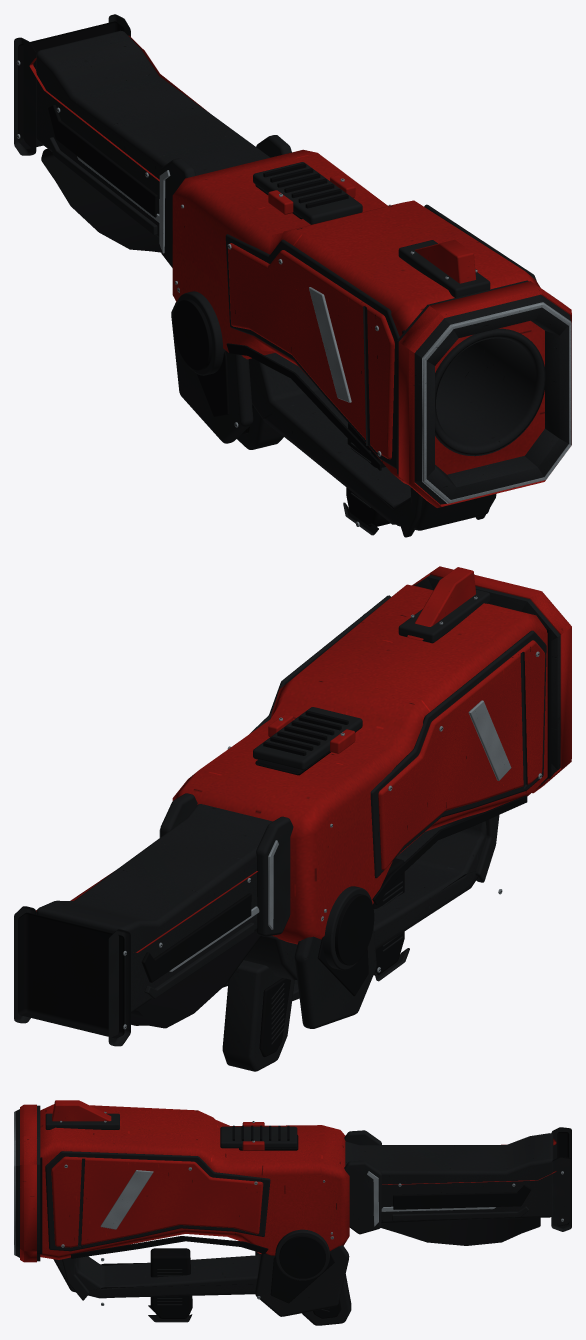
The model's file is pulse-launcher-lod0.glb.
3 renders of one model, top to bottom at view 1: azimuth 30°, elevation 25°; view 2: azimuth 150°, elevation 25°; view 3: azimuth 270°, elevation 25°, orthographic. The views are drawn at different scales.
Parts seen in each view (by area): view 1: crimson graphite geometry, crimson red enamel geometry, crimson rubber geometry, crimson titanium geometry; view 2: crimson red enamel geometry, crimson graphite geometry, crimson rubber geometry, crimson titanium geometry; view 3: crimson red enamel geometry, crimson graphite geometry, crimson rubber geometry, crimson titanium geometry.
Part boxes in pixels (<box>): crimson graphite geometry: <box>14,14,570,537</box>; crimson red enamel geometry: <box>29,35,571,507</box>; crimson rubber geometry: <box>17,21,476,527</box>; crimson titanium geometry: <box>16,60,571,526</box>; crimson red enamel geometry: <box>36,566,571,952</box>; crimson graphite geometry: <box>14,575,560,1071</box>; crimson rubber geometry: <box>18,596,553,1057</box>; crimson titanium geometry: <box>123,596,542,1029</box>; crimson red enamel geometry: <box>20,1100,556,1262</box>; crimson graphite geometry: <box>15,1105,571,1325</box>; crimson rubber geometry: <box>37,1111,569,1318</box>; crimson titanium geometry: <box>14,1111,563,1305</box>.
Size of the model in its own units: 0.311 by 0.6119 by 1.41.
Materials: 4 (4 with a texture image).
